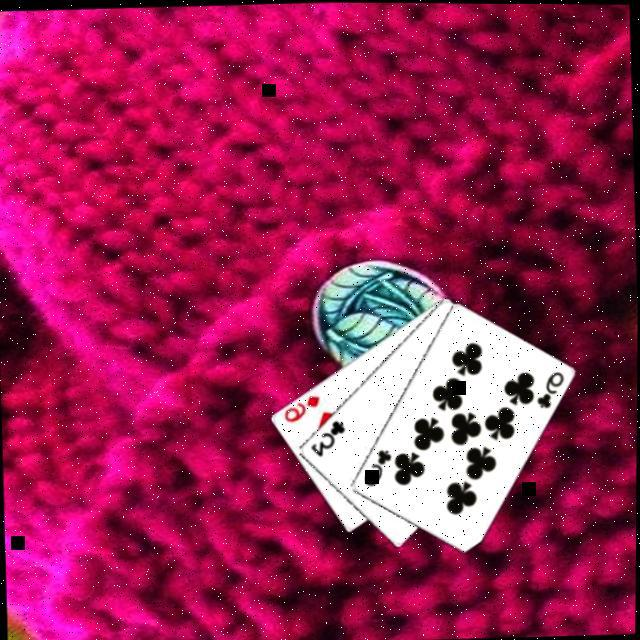3C: (305, 415, 347, 458)
9C: (358, 445, 393, 488), (531, 366, 565, 410)
9D: (278, 390, 321, 423)
